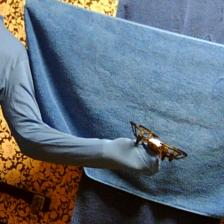drone: (129, 119, 187, 164)
